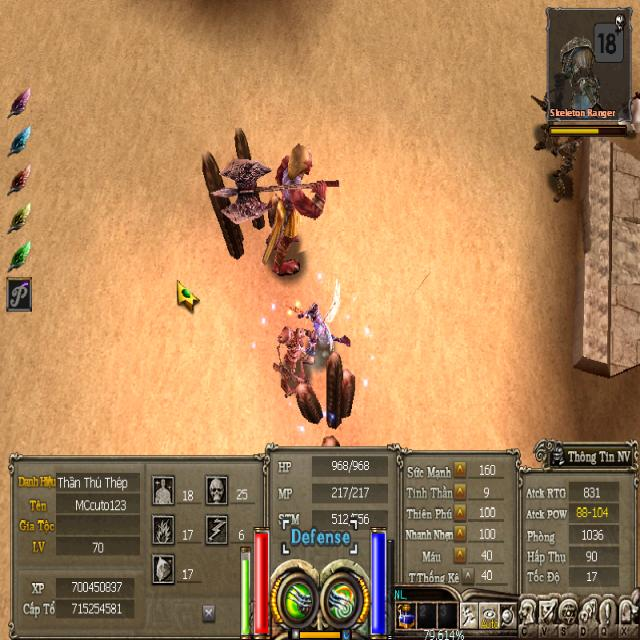monster: (229, 124, 336, 290), (268, 326, 312, 409)
